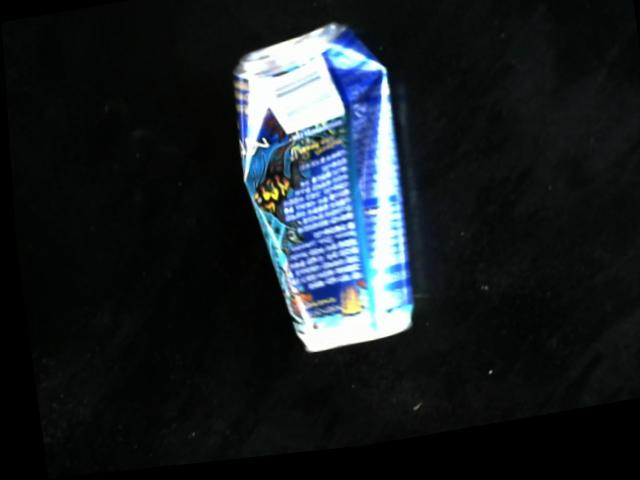can: (226, 20, 417, 369)
